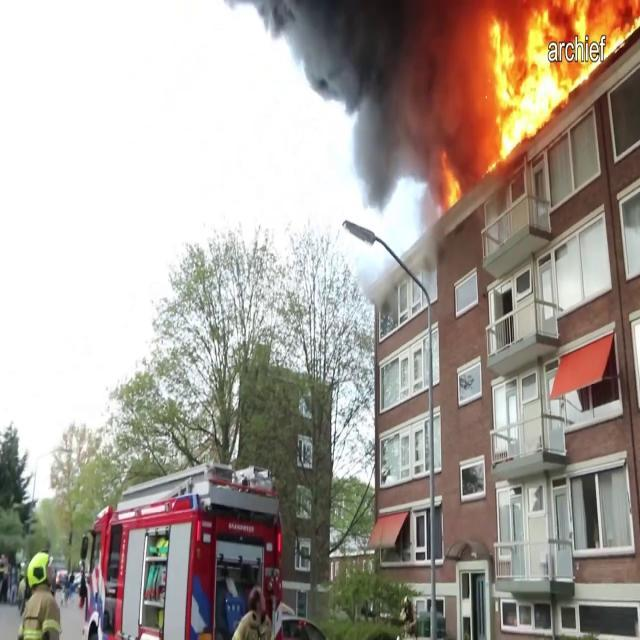Fire: (472, 1, 624, 167), (472, 1, 578, 167), (441, 154, 464, 212)
Smoke: (300, 0, 478, 214)
